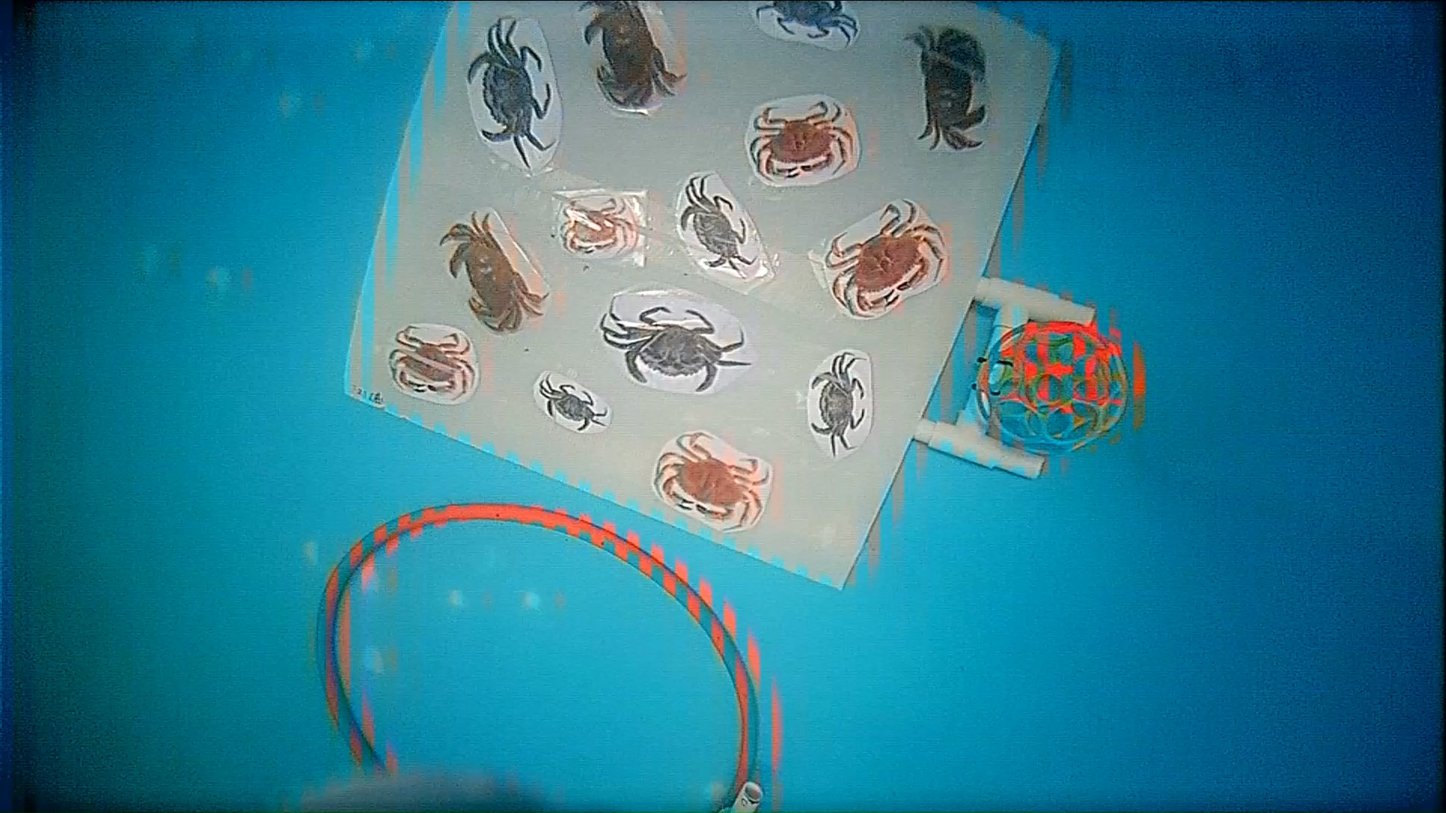GreenCrab: (599, 306, 750, 391), (468, 18, 552, 169), (680, 176, 755, 269), (810, 352, 863, 455)
